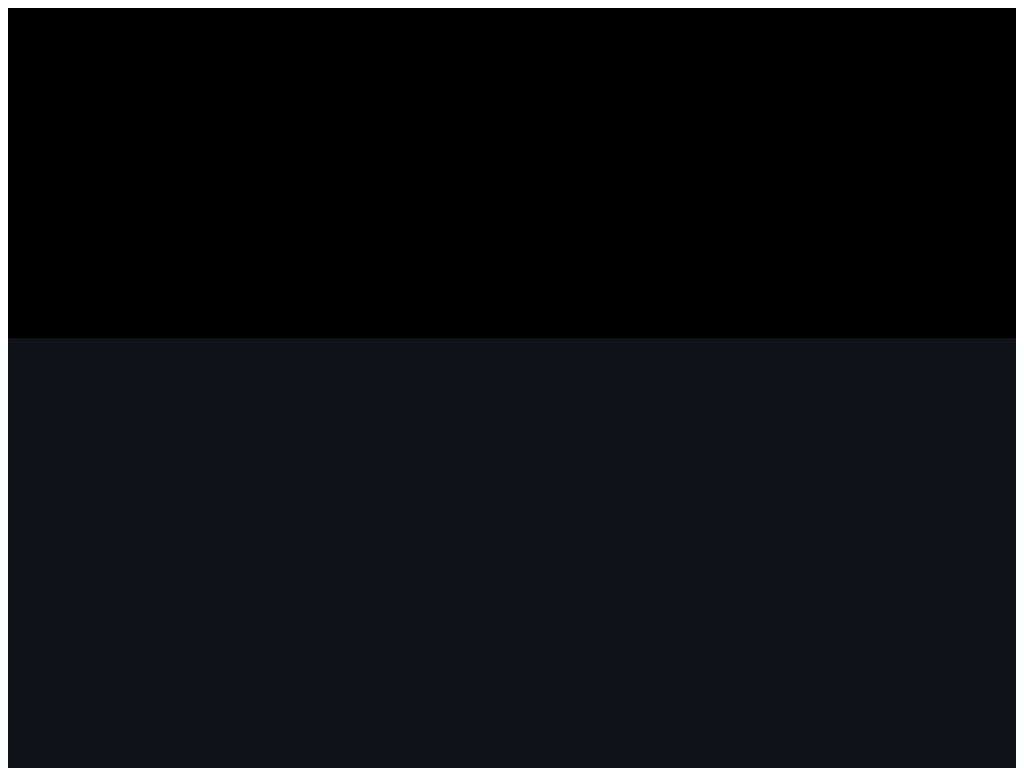
Test case: TabletPage (design 3a) › server-driven display power stage (WS messages) › shows the off overlay on a display_power frame and wakes on tap
This screenshot has width=1024, height=768.
Click the element with test id "screen-off-overlay".
click(512, 173)  # box [8,8,1016,338]
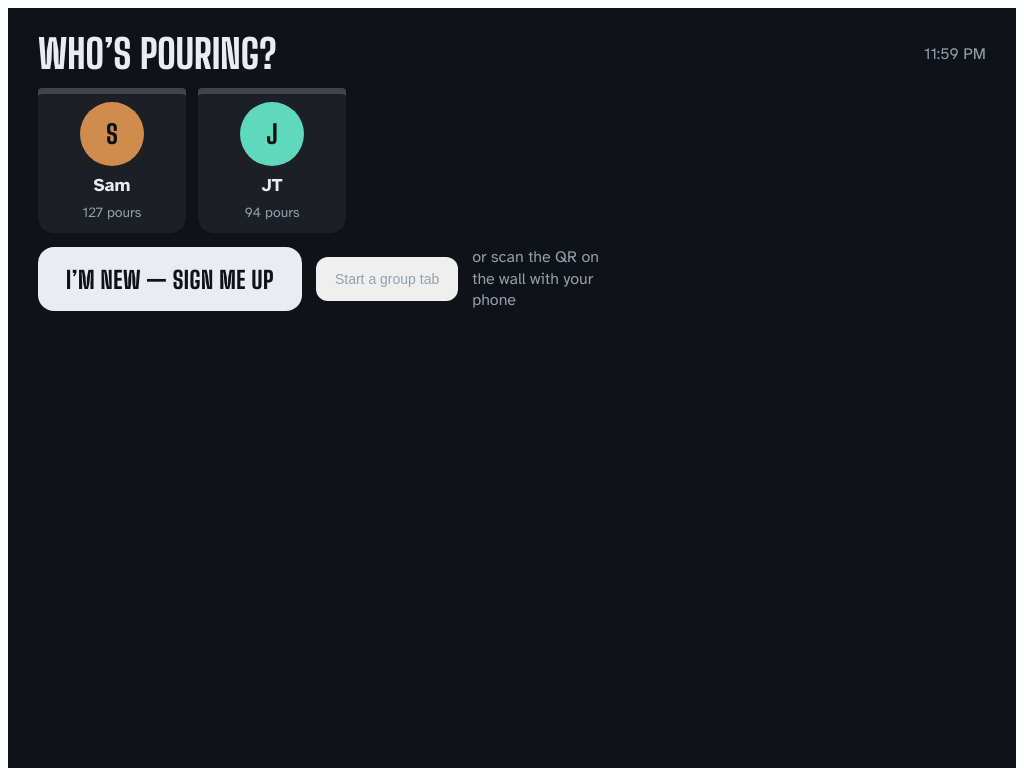
Result: the element with test id "screen-off-overlay" is gone
